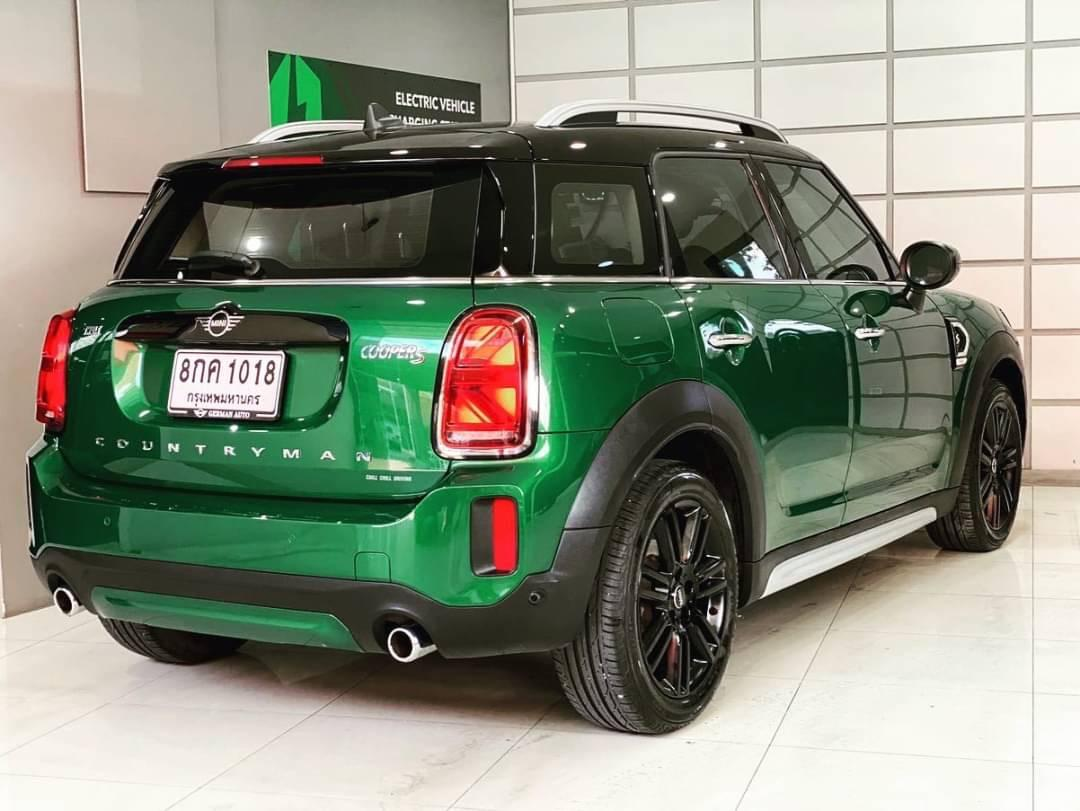license-plate: (160, 339, 296, 431)
